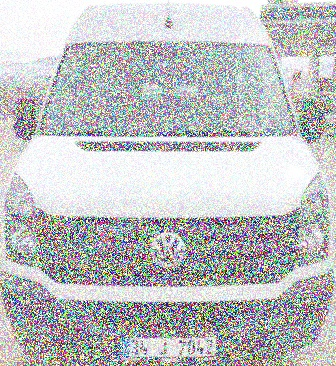plaka: (127, 333, 218, 358)
